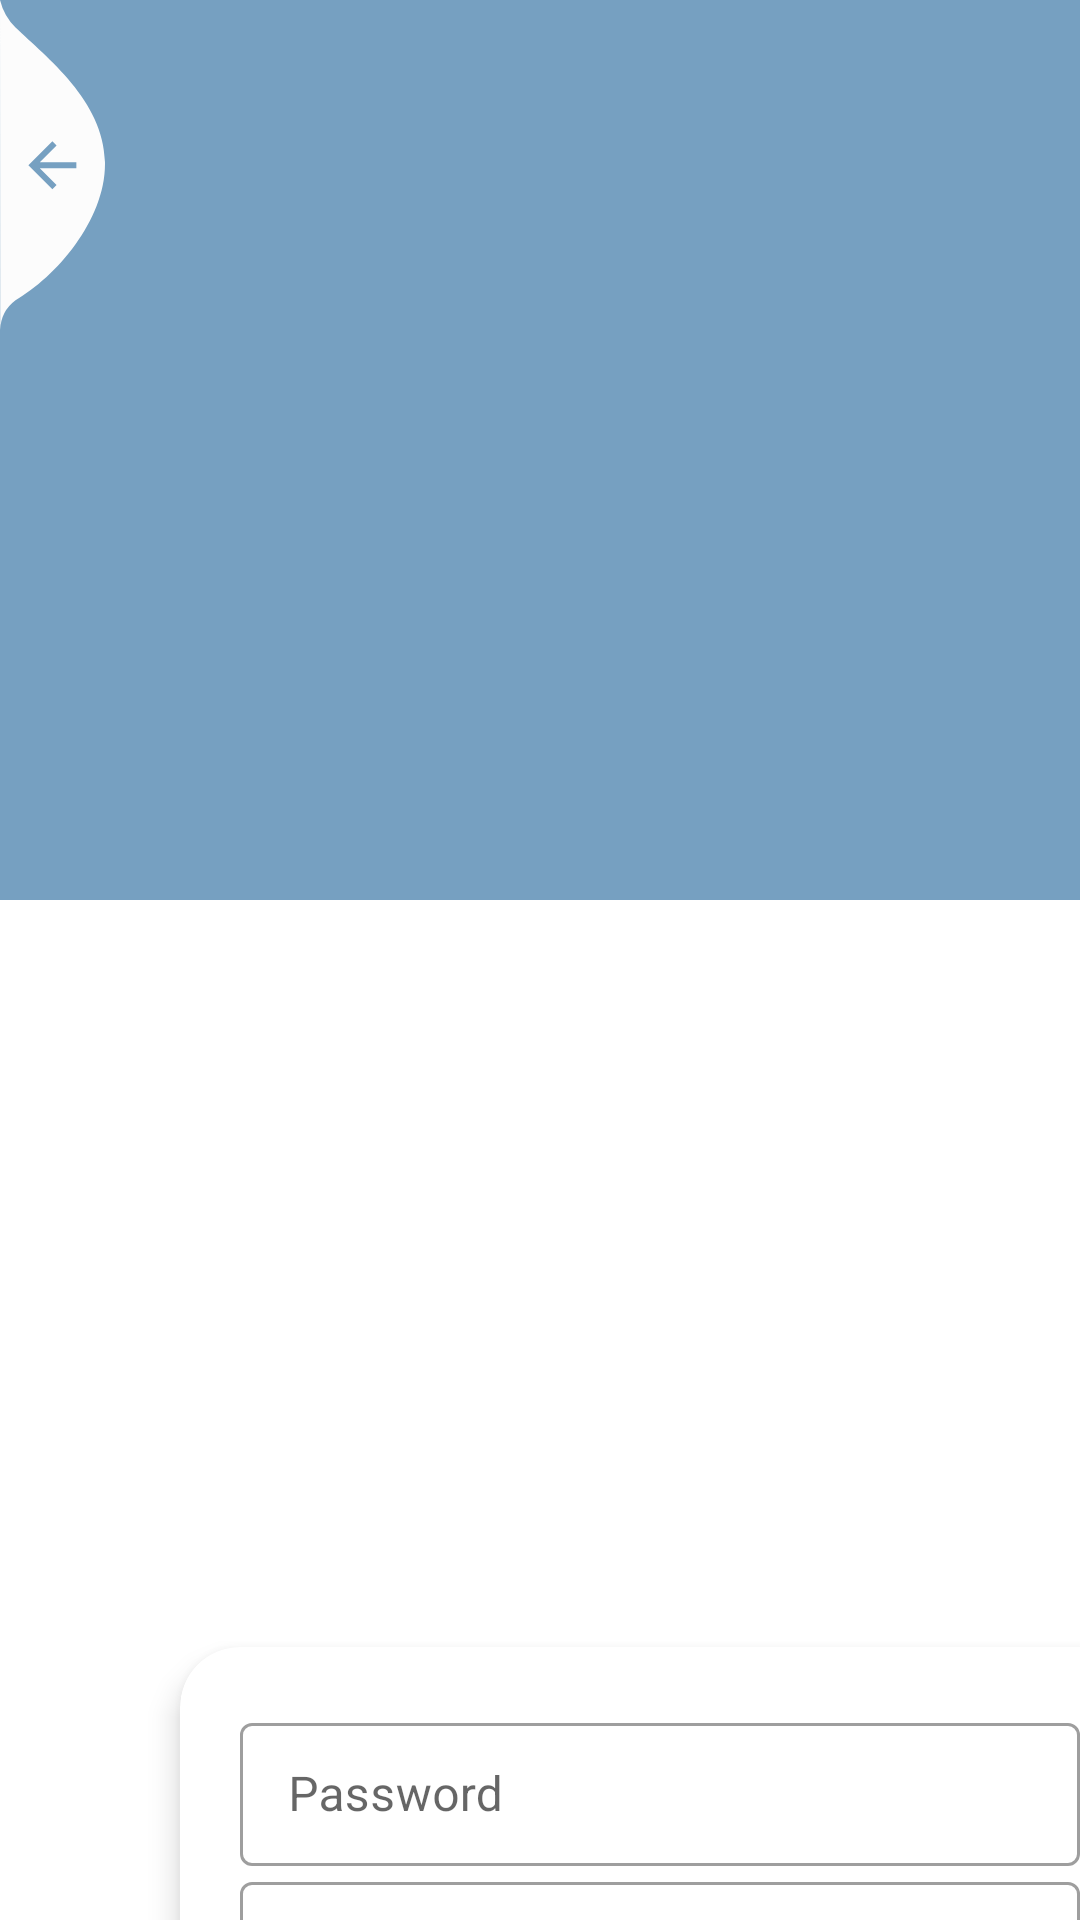

Screen size 1080×1920. Icon name, then its center in pixels as [x,y]:
back: [52,164]
